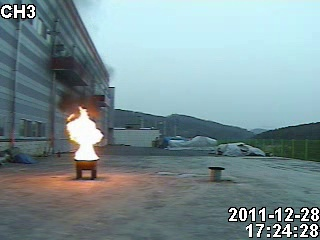fire: (65, 104, 103, 162)
